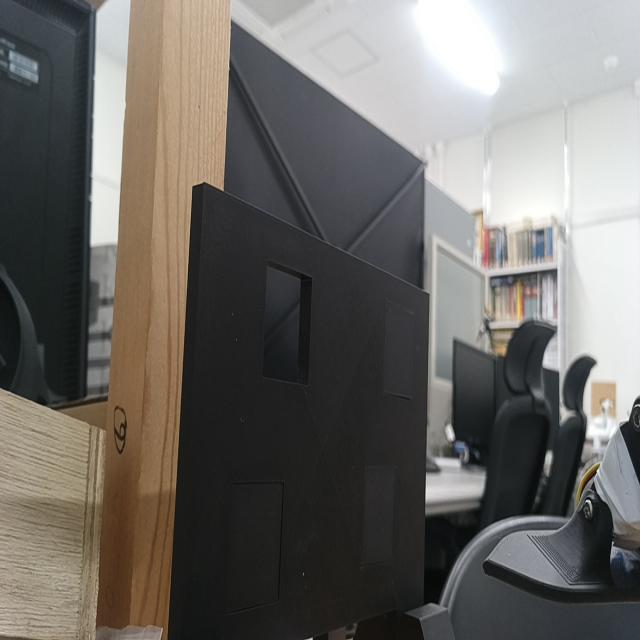Obstacle: (264, 263, 313, 384)
Wall: (181, 184, 429, 639)
